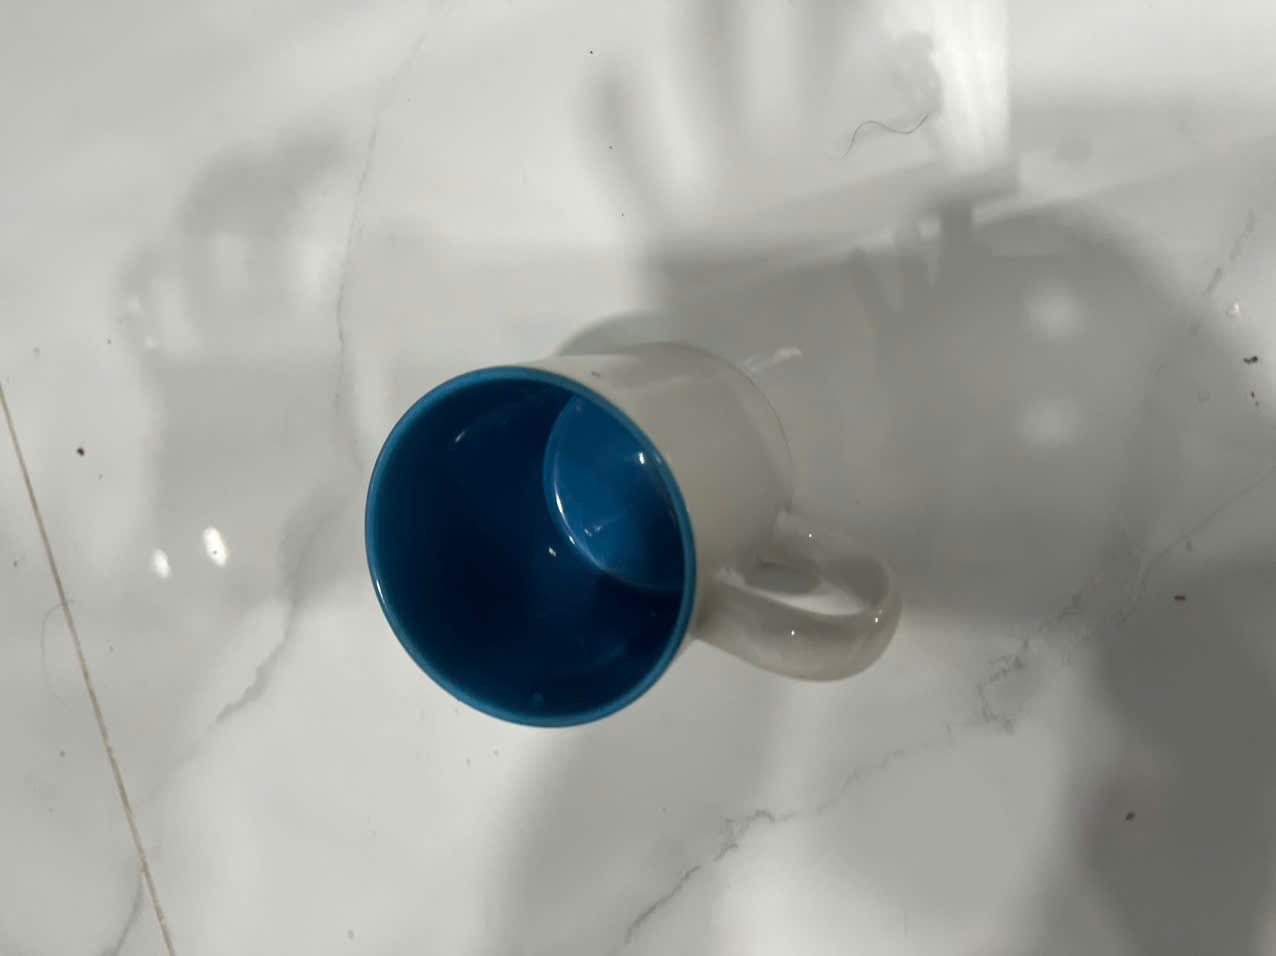ly coc: (304, 318, 910, 715)
